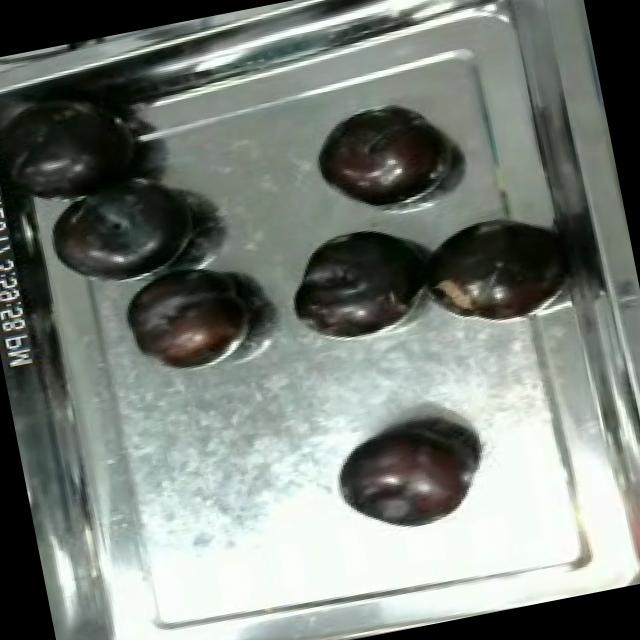Fruit: (31, 154, 214, 298), (272, 210, 436, 352), (324, 406, 494, 542), (421, 203, 574, 339), (304, 94, 458, 224), (114, 263, 266, 381)
